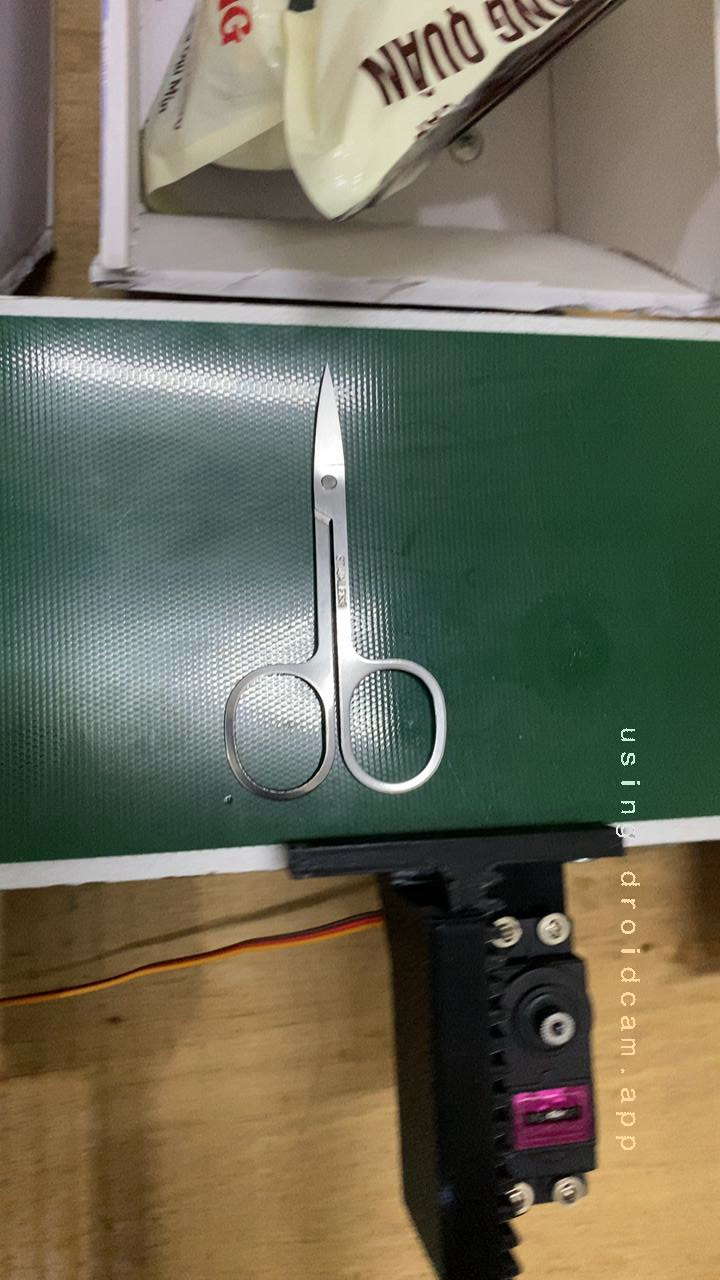scissor: (182, 368, 471, 813)
